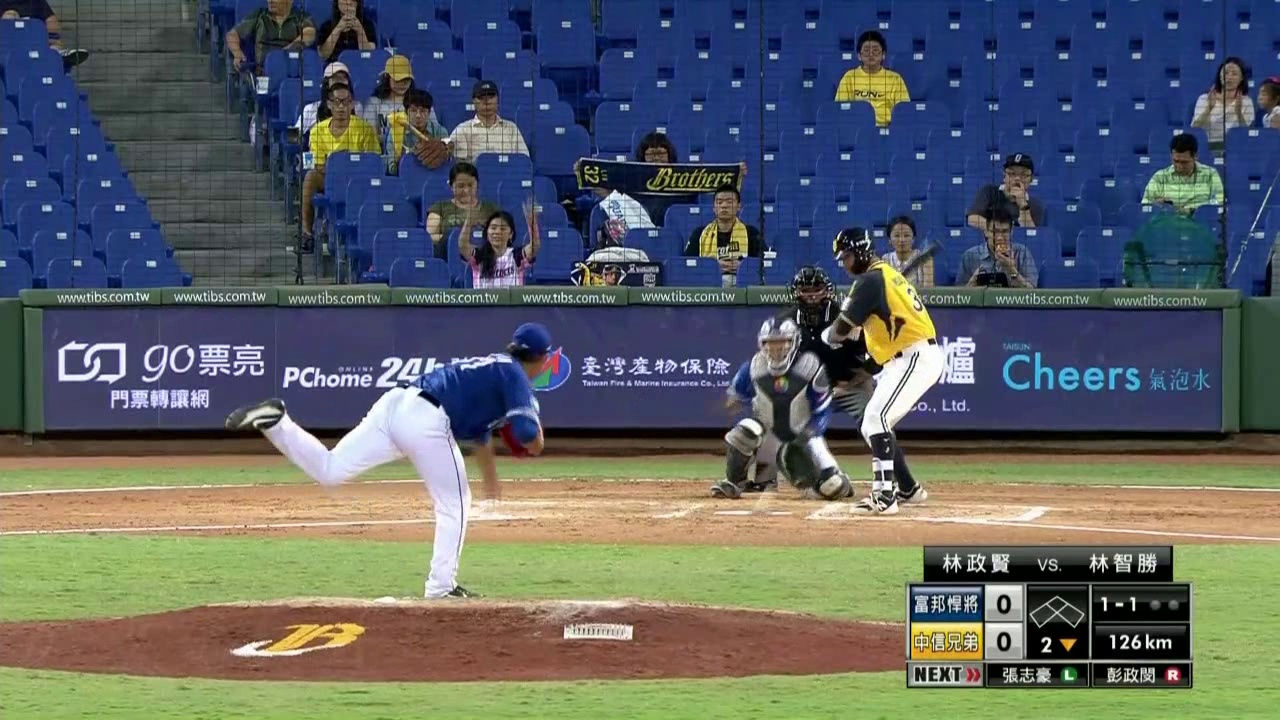ball: (752, 487, 774, 509)
base: (1025, 593, 1087, 629)
bat: (858, 235, 948, 306)
out: (1145, 588, 1186, 618)
score1: (987, 587, 1021, 621)
score2: (986, 625, 1019, 657)
session: (1026, 630, 1087, 656)
speed: (1095, 630, 1184, 657)
strikeball: (1094, 588, 1143, 619)
